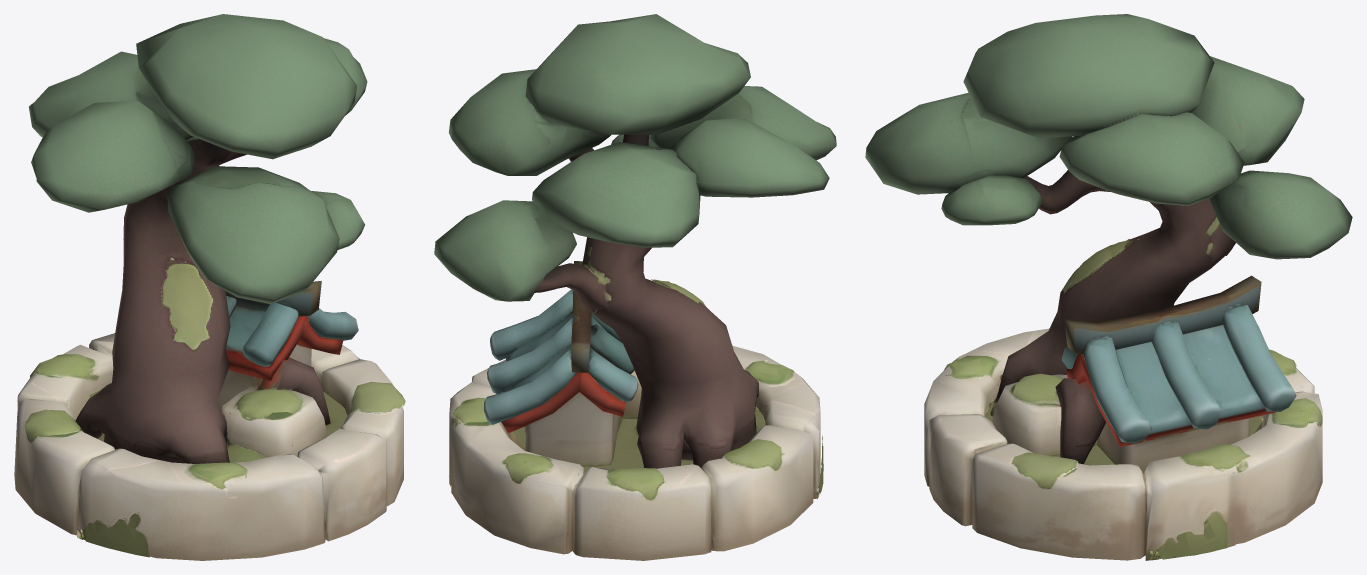
Rendered from tripo_convert_27f4f165-616c-4b47-9d15-57be83219dfb.fbx.
The picture shows the model from 3 angles, left to right: view 1: azimuth 30°, elevation 25°; view 2: azimuth 150°, elevation 25°; view 3: azimuth 270°, elevation 25°; orthographic projection. The views are drawn at different scales.
Parts seen in each view (by area): view 1: tripo_node_27f4f165; view 2: tripo_node_27f4f165; view 3: tripo_node_27f4f165.
Boxes of the visible parts, x1,y1,x2,y2 form: tripo_node_27f4f165: [14, 14, 405, 560]; tripo_node_27f4f165: [434, 14, 836, 560]; tripo_node_27f4f165: [865, 14, 1352, 560].
Size of the model in its own units: 0.8066 by 0.998 by 0.9512.
1 material, 1 textured.
